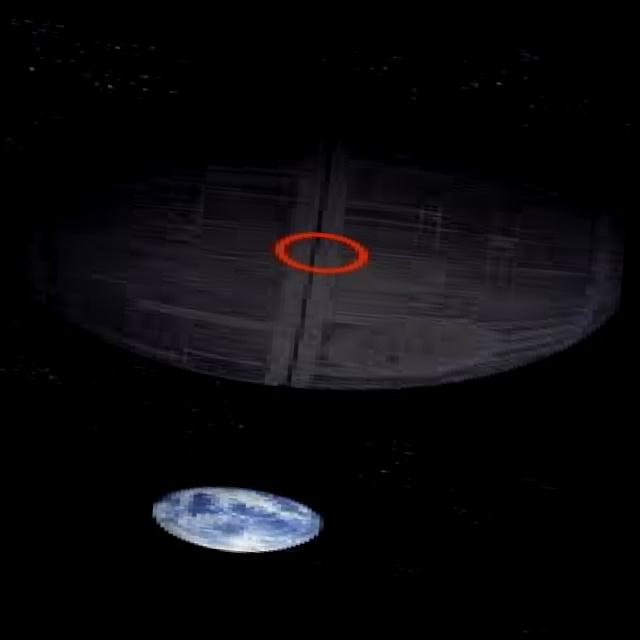deathStar: (10, 106, 616, 398)
